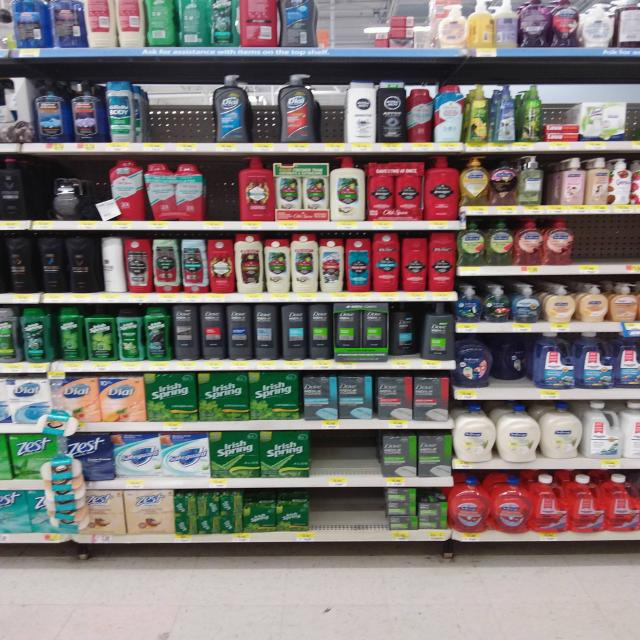void: (140, 68, 175, 152), (178, 66, 212, 151), (600, 218, 640, 274), (319, 68, 345, 152), (207, 159, 234, 232), (317, 431, 348, 488), (350, 492, 382, 546), (340, 0, 369, 59), (313, 491, 344, 546), (351, 431, 380, 487), (616, 403, 640, 468), (578, 216, 600, 274), (414, 0, 435, 60), (316, 0, 337, 59)
